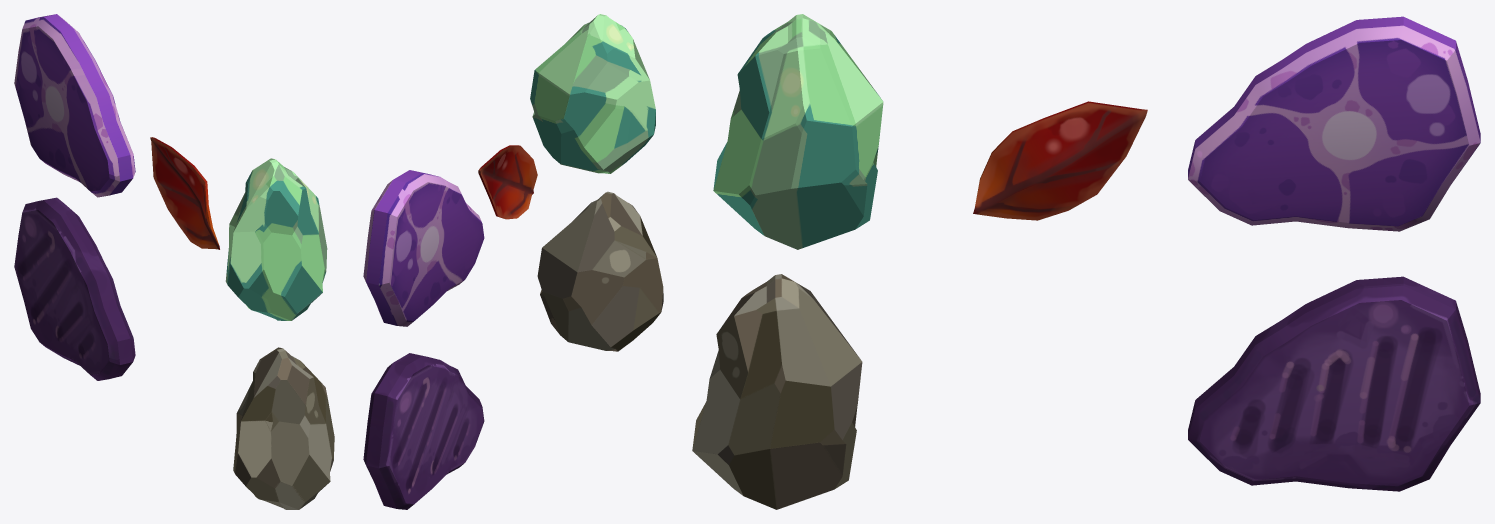
File: Drops game.fbx
3 views of the same model, side by side, from view 1: azimuth 30°, elevation 25°; view 2: azimuth 150°, elevation 25°; view 3: azimuth 270°, elevation 25° (orthographic). The views are drawn at different scales.
Visible parts, largest first — view 1: Cooked_meat, Raw_meat, Stone, Ironite, Leaf; view 2: Stone, Ironite, Cooked_meat, Raw_meat, Leaf; view 3: Cooked_meat, Raw_meat, Ironite, Stone, Leaf.
Part boxes in pixels (x1,y1,x2,y2): Cooked_meat: (14,197,135,380); Raw_meat: (14,14,135,197); Stone: (233,347,334,509); Ironite: (225,158,327,320); Leaf: (150,137,219,249); Stone: (537,191,663,351); Ironite: (530,14,655,173); Cooked_meat: (363,353,484,509); Raw_meat: (363,170,484,326); Leaf: (478,145,537,219); Cooked_meat: (1188,276,1480,491); Raw_meat: (1188,16,1480,231); Ironite: (713,14,883,249); Stone: (692,274,862,509); Leaf: (973,101,1147,220).
Size of the model in its own units: 8.27 by 26.19 by 39.18.
